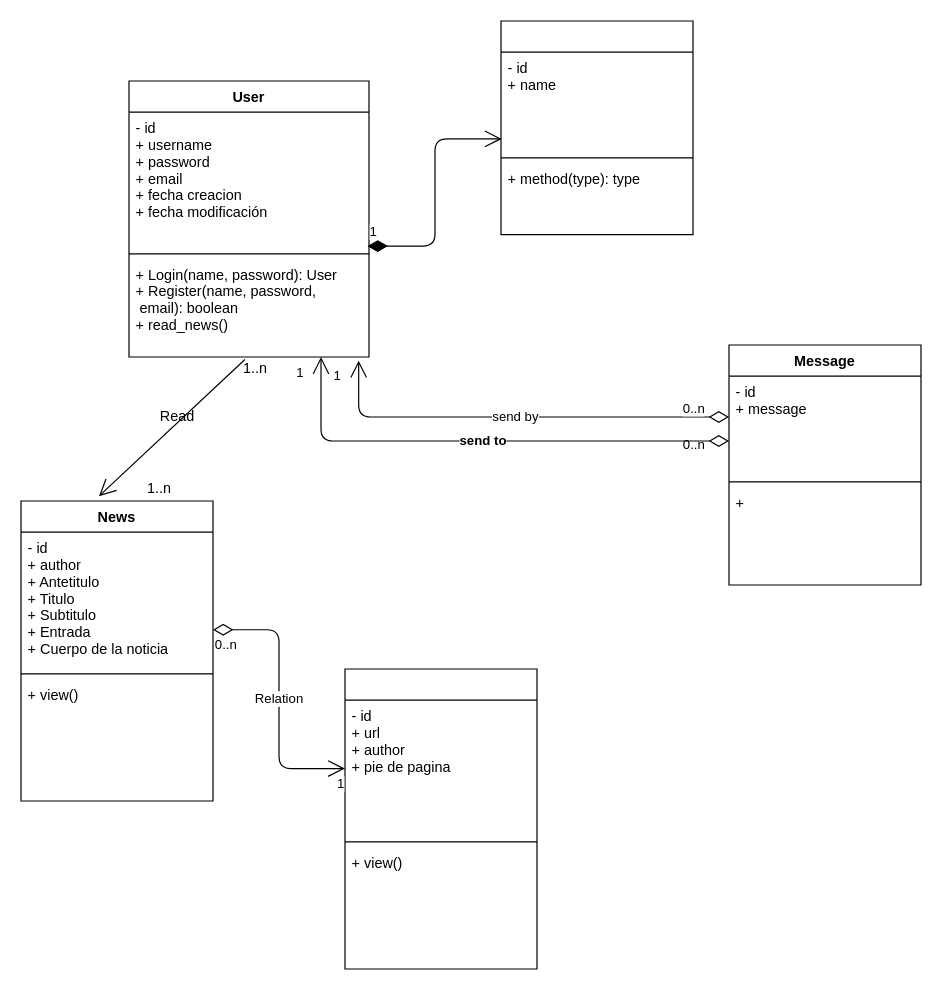
This 942x994 diagram has some shape labels left out. Each missing label, with the box of its shape:
Img_news: (344, 668, 537, 969)
Role: (500, 20, 693, 235)
